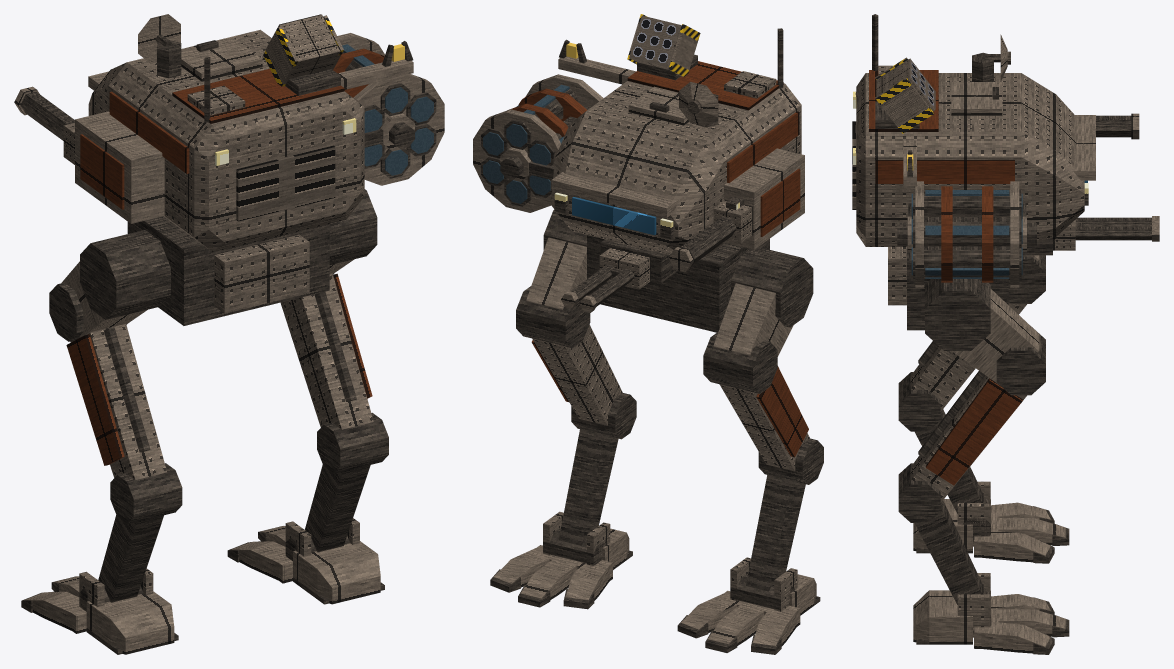
The model's file is cassowary.glb.
The picture shows the model from 3 angles, left to right: view 1: azimuth 30°, elevation 25°; view 2: azimuth 150°, elevation 25°; view 3: azimuth 270°, elevation 25°; orthographic projection. The views are drawn at different scales.
Parts seen in each view (by area): view 1: cab, pelvis, shin.001, hip_disc, drive_box, pod, rear_vent, shin, heel.001, heel, shank, shank.001 (+26 smaller); view 2: cab, pelvis, shin.001, shank, shank.001, hip_disc, thigh, pod, knee, thigh.001, knee.001, end_plate.001 (+38 smaller); view 3: cab, hip_disc.001, shin_plate.001, shank.001, flank_band.001, thigh.001, heel.001, shin, knee.001, rack_rail.001, hock, hock.001 (+37 smaller).
Boxes of the visible parts, x1,y1,x2,y2 form: cab: [88, 29, 364, 252]; pelvis: [127, 216, 329, 325]; shin.001: [280, 273, 373, 429]; hip_disc: [80, 230, 170, 319]; drive_box: [214, 234, 309, 313]; pod: [75, 111, 164, 223]; rear_vent: [236, 145, 335, 221]; shin: [70, 324, 166, 479]; heel.001: [293, 541, 380, 604]; heel: [86, 591, 174, 654]; shank: [98, 515, 163, 602]; shank.001: [305, 464, 370, 552]; cab: [551, 81, 801, 256]; pelvis: [587, 235, 769, 332]; shin.001: [532, 324, 622, 425]; shank: [746, 470, 805, 591]; shank.001: [558, 424, 618, 545]; hip_disc: [731, 247, 813, 327]; thigh: [713, 283, 793, 356]; pod: [724, 148, 804, 249]; knee: [703, 332, 777, 393]; thigh.001: [526, 237, 586, 309]; knee.001: [516, 286, 590, 348]; end_plate.001: [473, 109, 560, 212]; cab: [856, 73, 1084, 246]; hip_disc.001: [925, 279, 990, 350]; shin_plate.001: [926, 378, 1022, 485]; shank.001: [914, 500, 986, 604]; flank_band.001: [875, 160, 1014, 183]; thigh.001: [952, 289, 1039, 384]; heel.001: [913, 590, 972, 644]; shin: [910, 302, 1026, 411]; knee.001: [996, 327, 1045, 395]; rack_rail.001: [875, 78, 933, 133]; hock: [898, 372, 940, 431]; hock.001: [898, 463, 940, 522].
Bounding box in the file's own units: 57.57 × 94 × 48.4.
12 materials, 12 textured.
